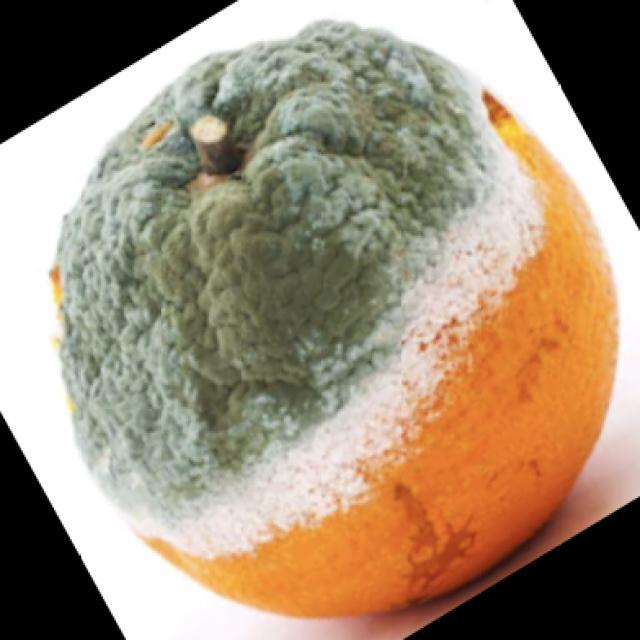sangat-busuk: (53, 20, 617, 614)
